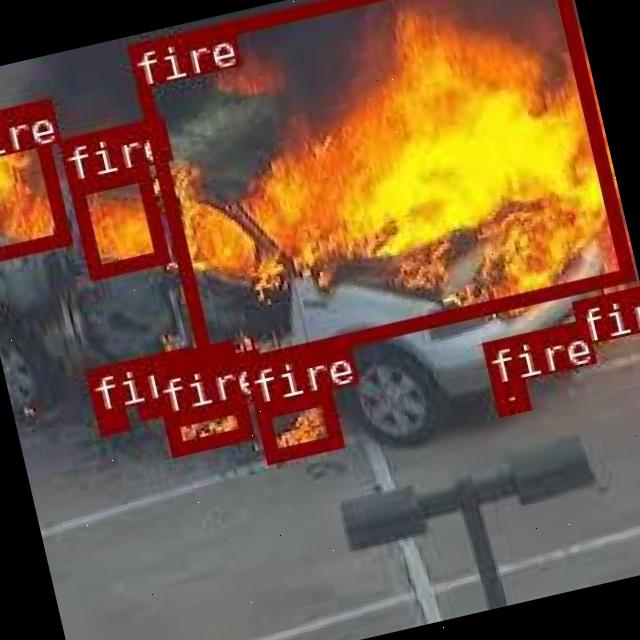fire: (124, 0, 630, 375), (68, 166, 168, 278), (0, 101, 67, 263), (254, 388, 342, 462), (160, 396, 250, 456), (569, 286, 640, 342), (490, 379, 528, 413), (94, 406, 124, 432), (136, 399, 168, 417)
